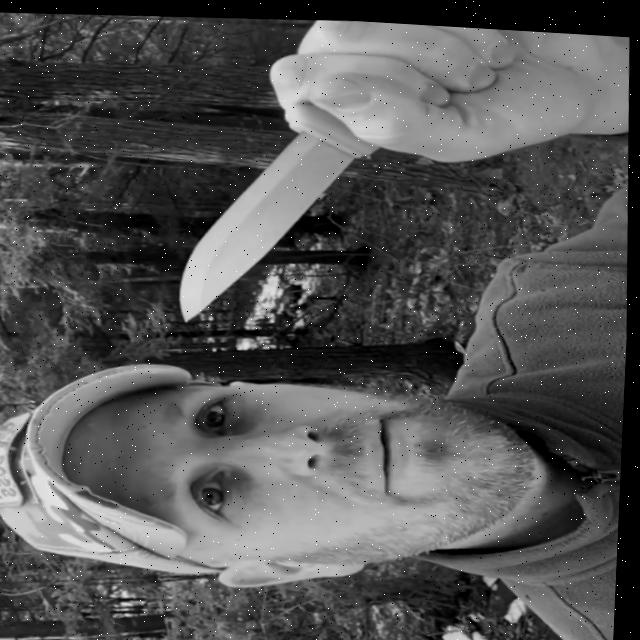knife: (157, 111, 373, 331)
